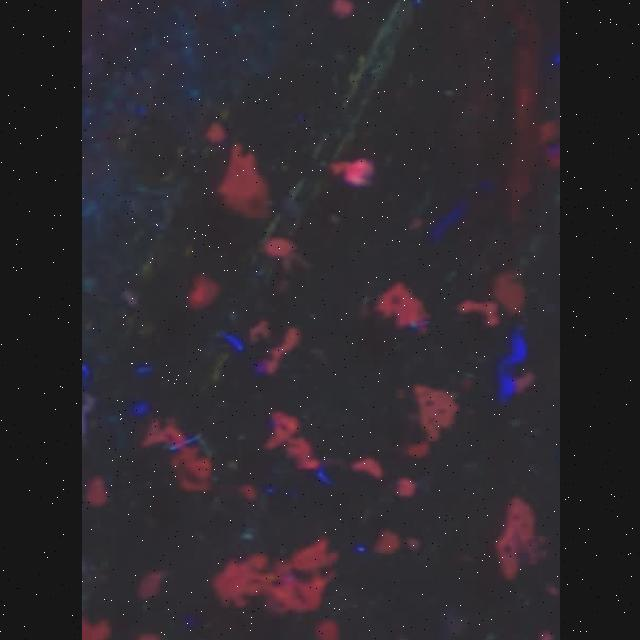Fragment: (210, 537, 340, 617), (493, 494, 545, 580)
